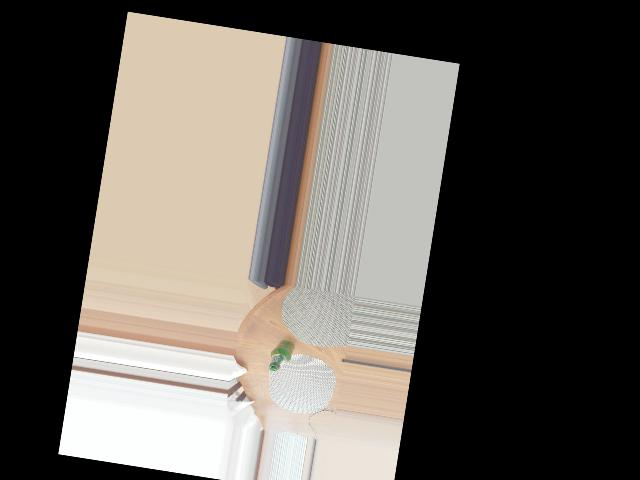beer: (268, 338, 294, 373)
